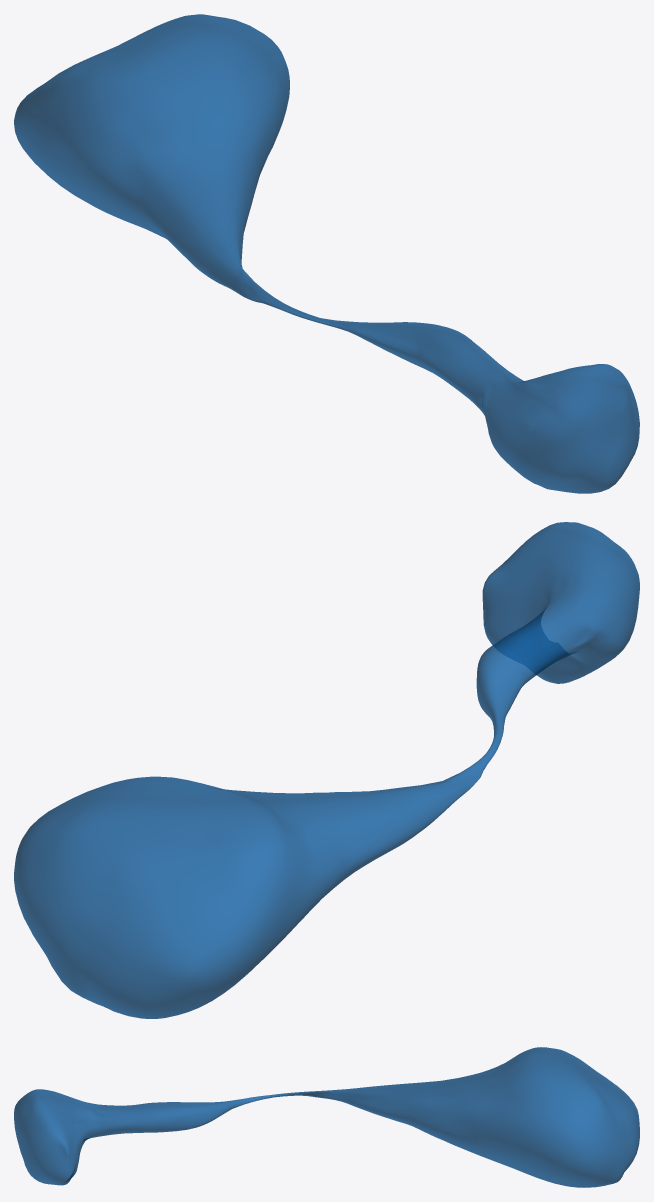
Rendered from spine-6-hr.obj.
The picture shows the model from 3 angles, top to bottom: view 1: azimuth 30°, elevation 25°; view 2: azimuth 150°, elevation 25°; view 3: azimuth 270°, elevation 25°; orthographic projection. The views are drawn at different scales.
Visible parts, largest first — view 1: spine-6-hr_Cube.196; view 2: spine-6-hr_Cube.196; view 3: spine-6-hr_Cube.196.
Boxes of the visible parts, box(x1,y1,x2,y2) form: spine-6-hr_Cube.196: box(14, 14, 639, 493); spine-6-hr_Cube.196: box(14, 522, 639, 1018); spine-6-hr_Cube.196: box(14, 1047, 639, 1187).
Size of the model in its own units: 0.6777 by 0.4811 by 2.38.
